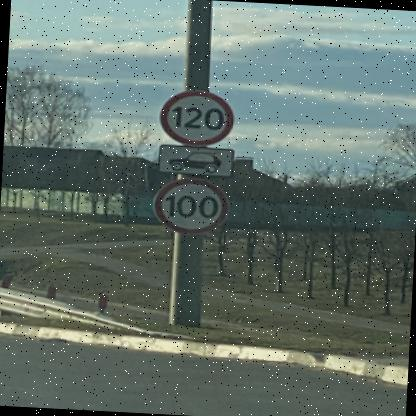speedlimit: (156, 86, 235, 146), (150, 175, 228, 234)
